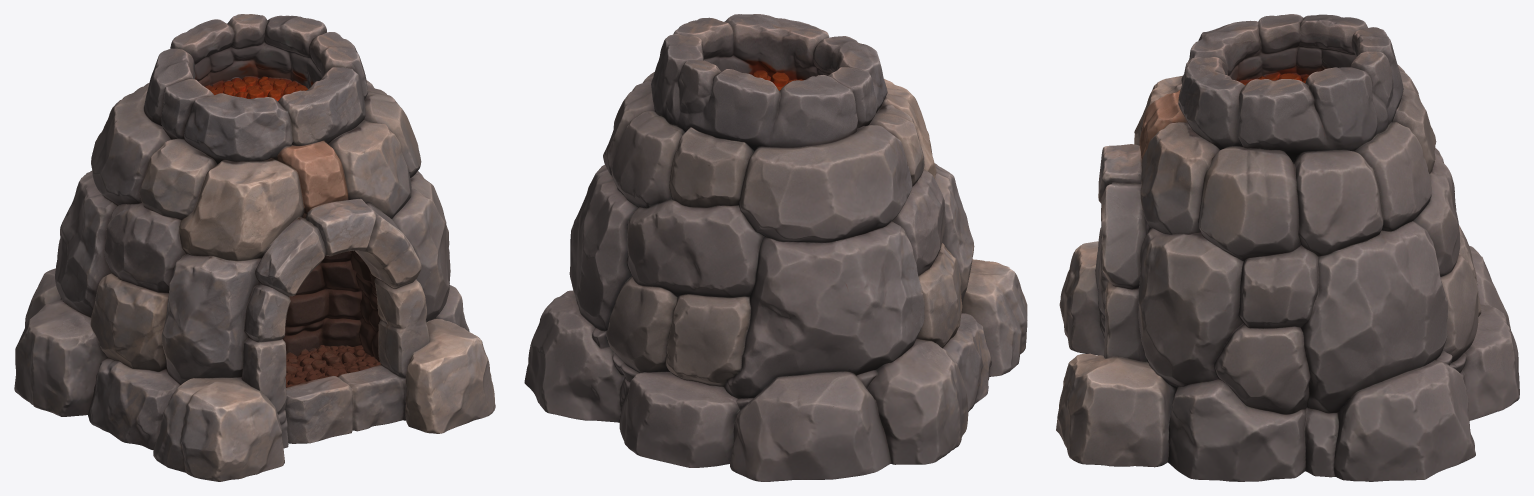
File: hearth_trial_02.glb
3 views of the same model, side by side, from view 1: azimuth 30°, elevation 25°; view 2: azimuth 150°, elevation 25°; view 3: azimuth 270°, elevation 25° (orthographic). The views are drawn at different scales.
Size of the model in its own units: 1.9 by 1.53 by 1.85.
Materials: 1 (1 with a texture image).
